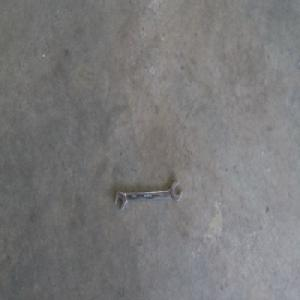Wrench: (115, 179, 182, 207)
